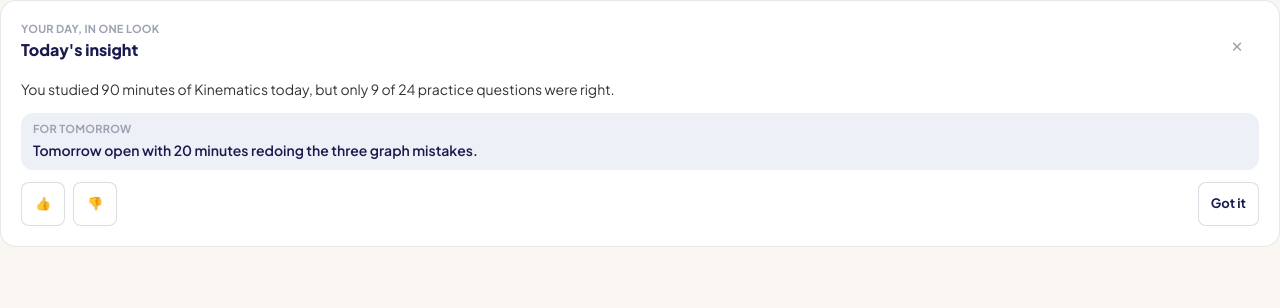
Test: DailyInsightCard › a failed save keeps the card and says so
Click the button with test id "insight-up": (43, 204) [21,182,65,226]
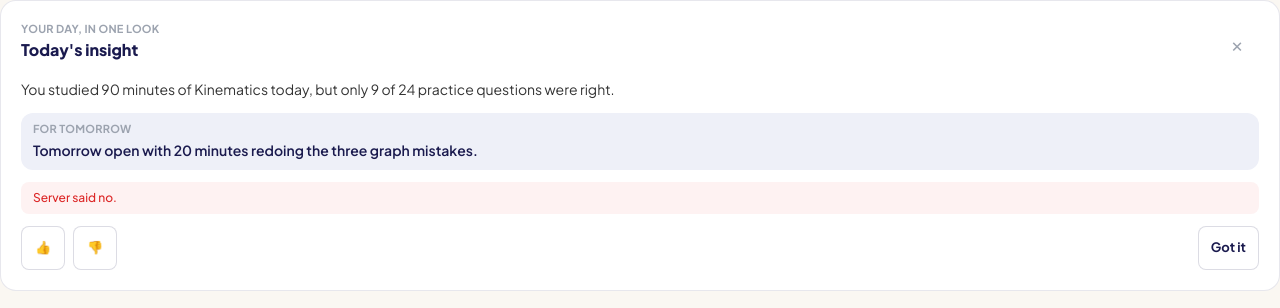
Expected: the button with test id "insight-up" is enabled, [21,226,65,270]
Expected: the message with test id "insight-error" reads "Server said no.", [33,190,117,204]
